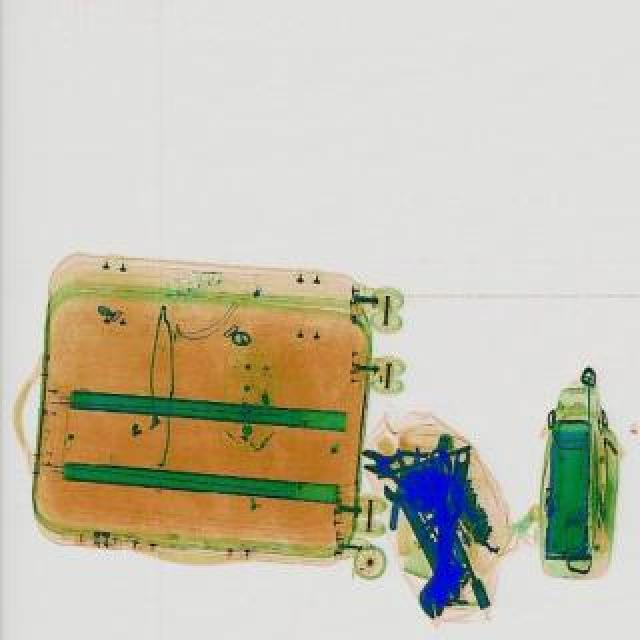scissors: (378, 474, 466, 608), (414, 446, 478, 620)
wrench: (354, 438, 430, 494)
